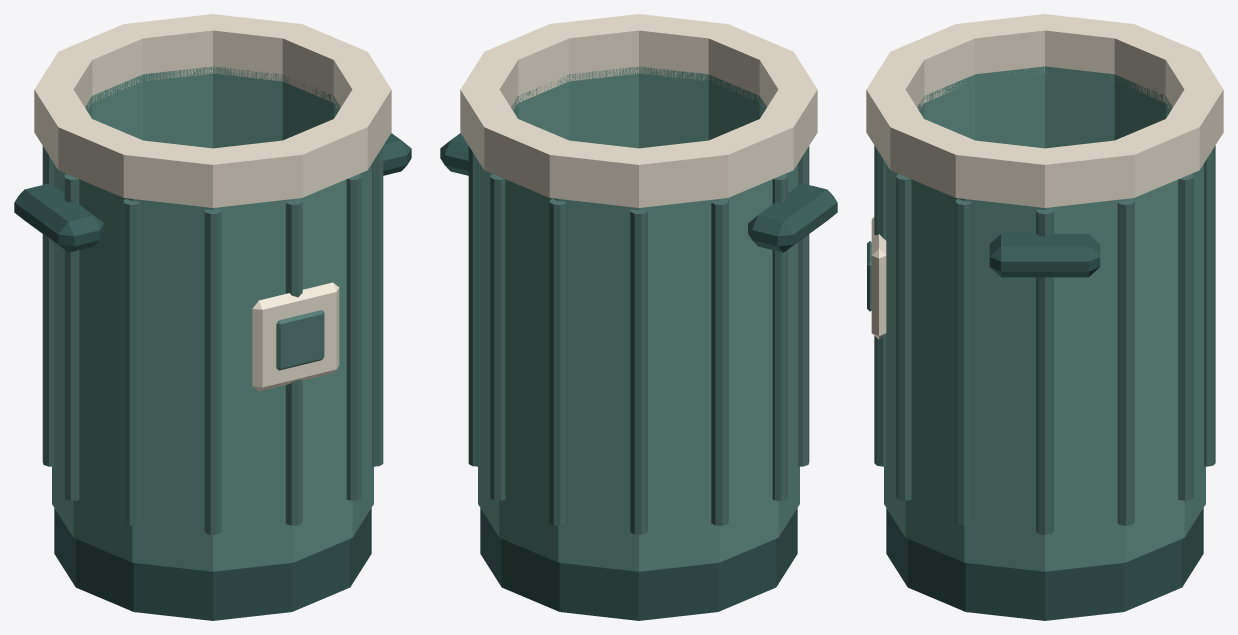
Rendered from trashcan.glb.
3 views of the same model, side by side, from view 1: azimuth 30°, elevation 25°; view 2: azimuth 150°, elevation 25°; view 3: azimuth 270°, elevation 25° (orthographic).
Parts seen in each view (by area): view 1: ModelMesh; view 2: ModelMesh; view 3: ModelMesh.
Part boxes in pixels (x1,y1,x2,y2): ModelMesh: (14, 14, 411, 620); ModelMesh: (440, 14, 837, 620); ModelMesh: (866, 14, 1223, 620).
Bounding box in the file's own units: 0.772 × 0.97 × 0.676.
